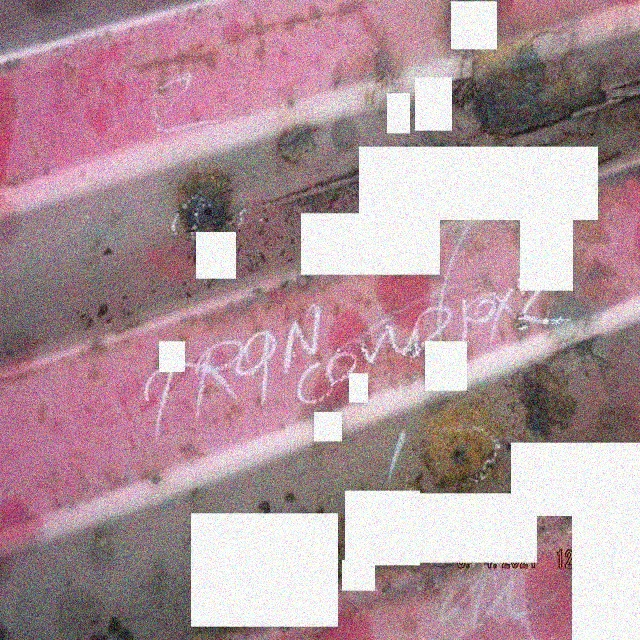Hole: (201, 204, 217, 220), (452, 448, 466, 464)
Rusty: (452, 41, 608, 142), (420, 404, 503, 496), (518, 363, 579, 439), (177, 178, 236, 236), (276, 121, 324, 169)
